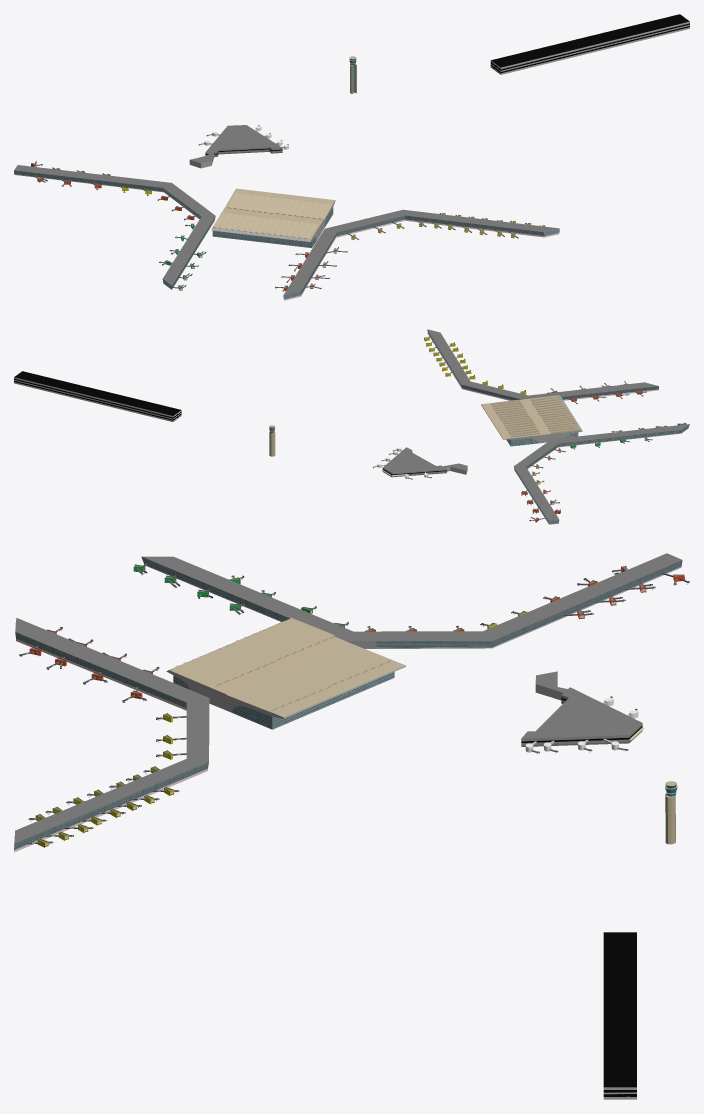
Rendered from vidp5.gltf.
3 renders of one model, top to bottom at view 1: azimuth 30°, elevation 25°; view 2: azimuth 150°, elevation 25°; view 3: azimuth 270°, elevation 25°, orthographic. The views are drawn at different scales.
Parts seen in each view (by area): view 1: Plane, Cube.002, Plane.017, Cube.003, Cube; view 2: Plane, Cube.002, Cube.003, Plane.017, Cube; view 3: Plane, Plane.017, Cube.003, Cube.002, Cube.
Part boxes in pixels (x1=…): Plane: x1=14, y1=125, x2=559, y2=300; Cube.002: x1=490, y1=14, x2=689, y2=74; Plane.017: x1=213, y1=192, x2=331, y2=239; Cube.003: x1=211, y1=188, x2=335, y2=247; Cube: x1=31, y1=125, x2=545, y2=291; Plane: x1=382, y1=329, x2=689, y2=524; Cube.002: x1=14, y1=371, x2=181, y2=421; Cube.003: x1=481, y1=395, x2=582, y2=446; Plane.017: x1=491, y1=396, x2=579, y2=437; Cube: x1=373, y1=336, x2=686, y2=522; Plane: x1=14, y1=553, x2=682, y2=852; Plane.017: x1=172, y1=618, x2=390, y2=711; Cube.003: x1=166, y1=618, x2=405, y2=729; Cube.002: x1=603, y1=932, x2=636, y2=1099; Cube: x1=20, y1=563, x2=689, y2=847.
Bounding box in the file's own units: 1747 × 90.94 × 927.
6 materials, 1 textured.
